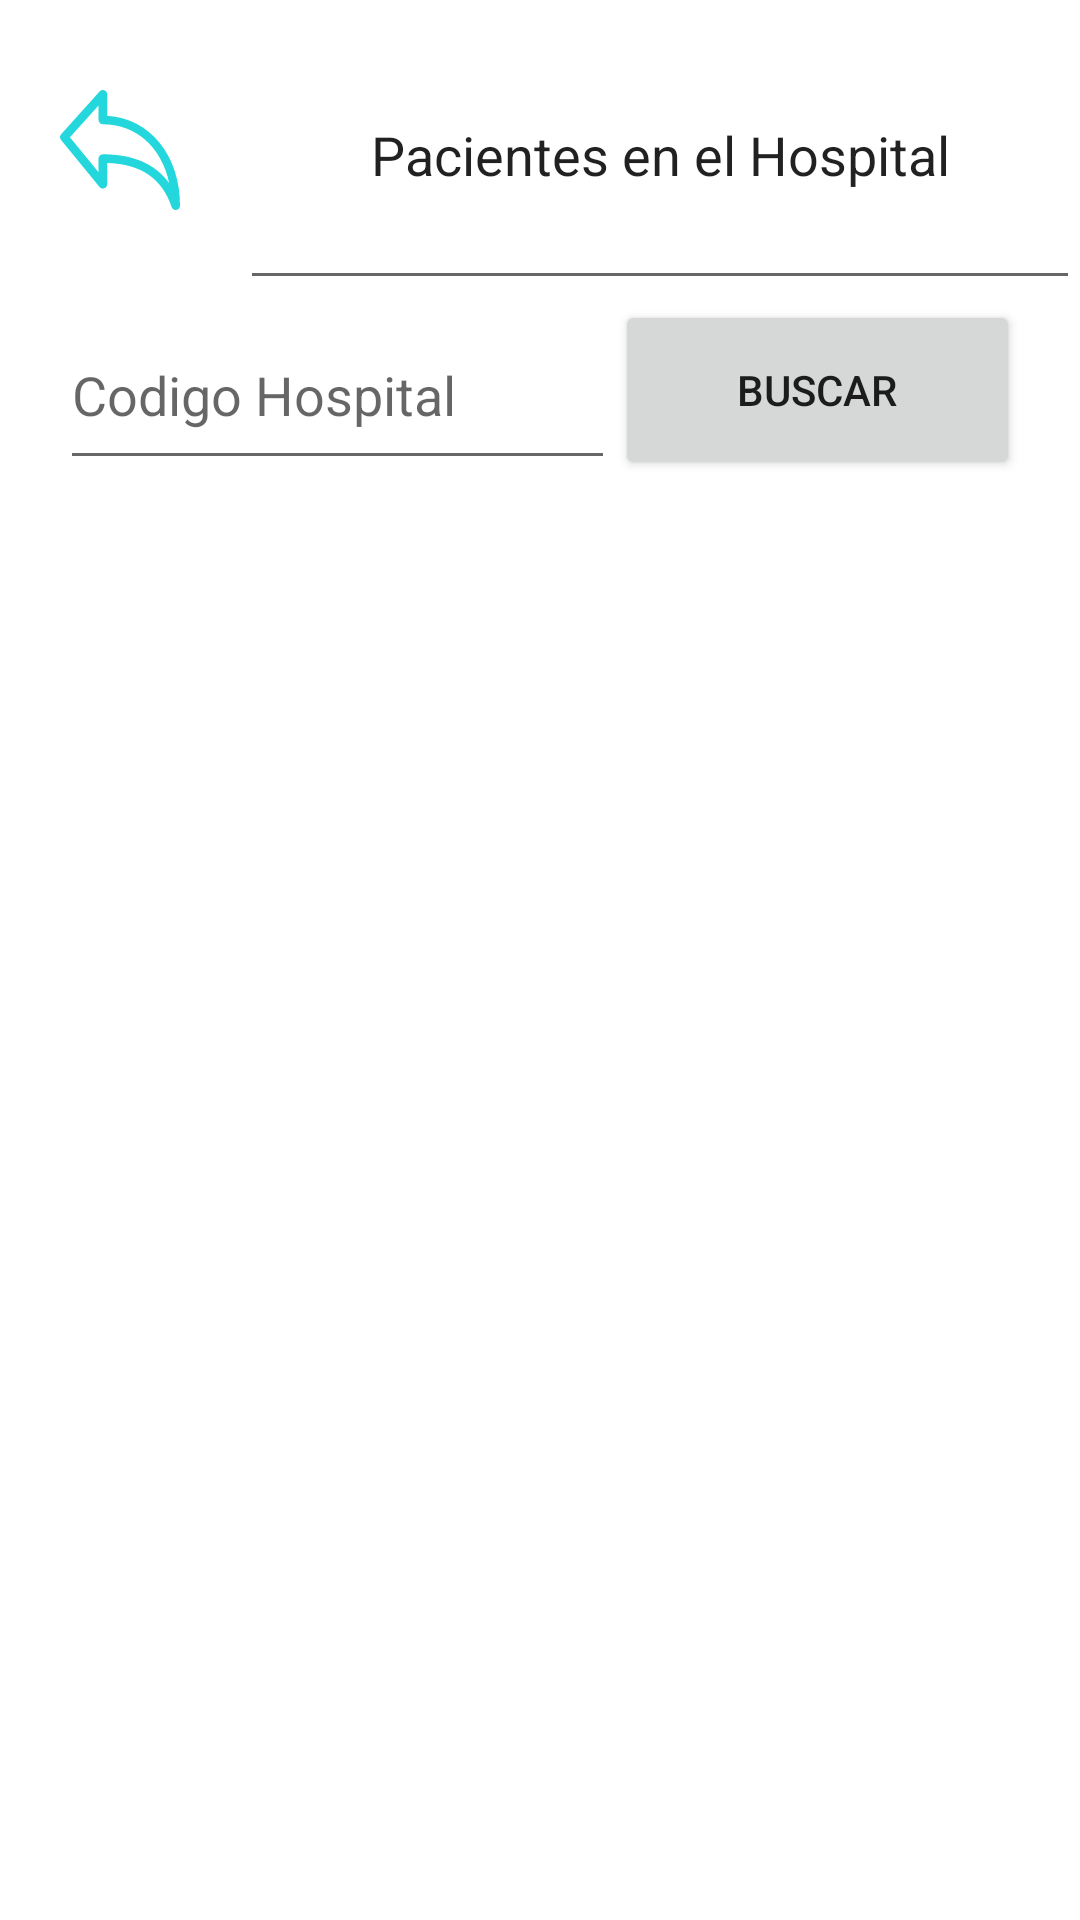

Icons on this 1080 x 1920 Android screen, each with its box as (x1, y1, x2, y2):
atras: (60, 90, 180, 210)
